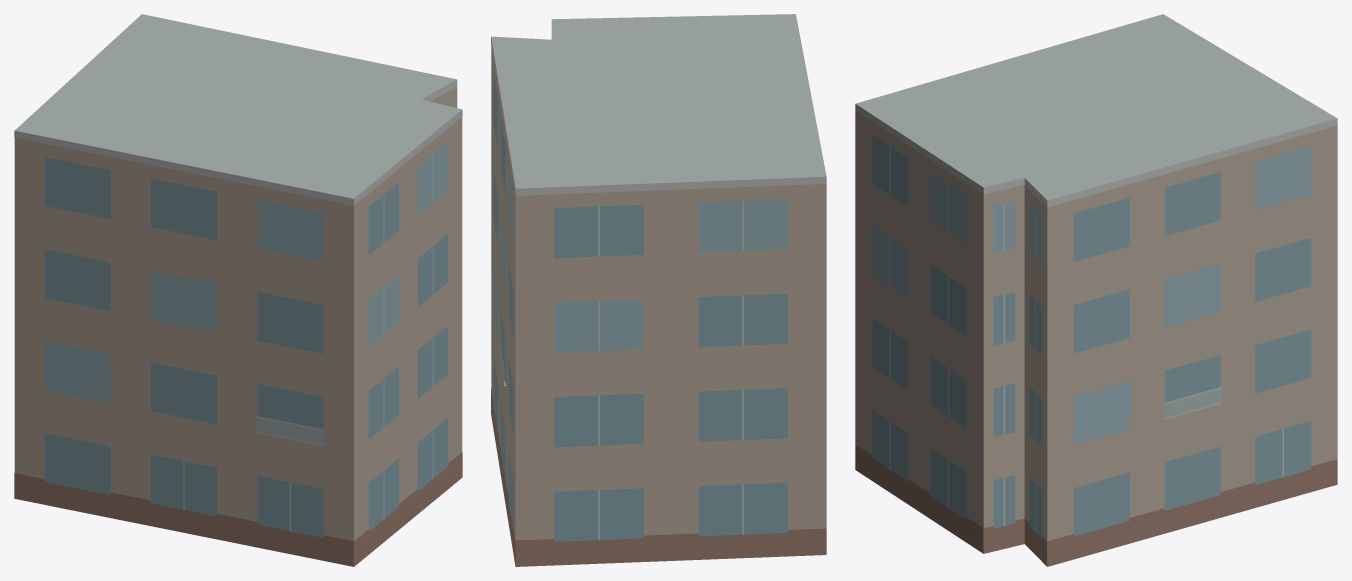
File: survey-upis-32915452.glb
The picture shows the model from 3 angles, left to right: view 1: azimuth 30°, elevation 25°; view 2: azimuth 150°, elevation 25°; view 3: azimuth 270°, elevation 25°; orthographic projection. The views are drawn at different scales.
Parts seen in each view (by area): view 1: survey-upis-32915452.tmp; view 2: survey-upis-32915452.tmp; view 3: survey-upis-32915452.tmp.
Boxes of the visible parts, bbox=[...] form: survey-upis-32915452.tmp: bbox=[14, 14, 462, 566]; survey-upis-32915452.tmp: bbox=[491, 14, 826, 566]; survey-upis-32915452.tmp: bbox=[855, 14, 1337, 566].
Size of the model in its own units: 14.01 by 12.8 by 15.29.
